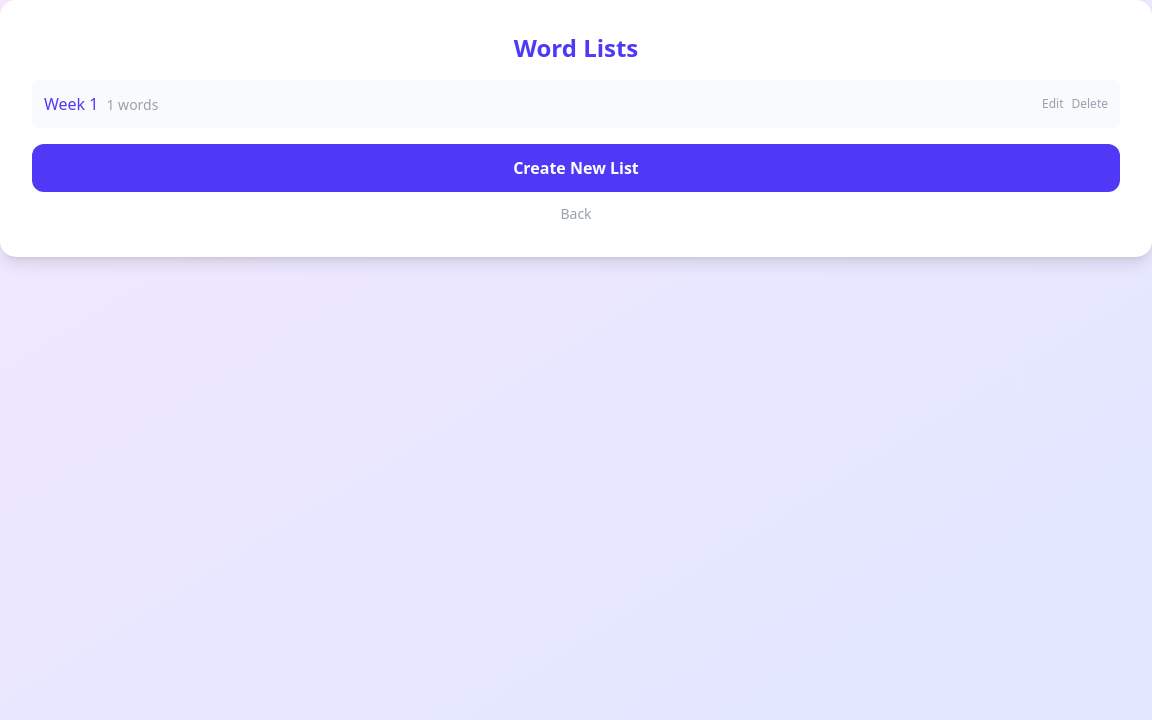
AdminPanel › deletes a word list
The image size is (1152, 720).
expect the text "Week 1" is shown: met, box [44,93,98,115]
Click the button "Delete" at coordinates (1090, 104), box [1072,96,1108,112]
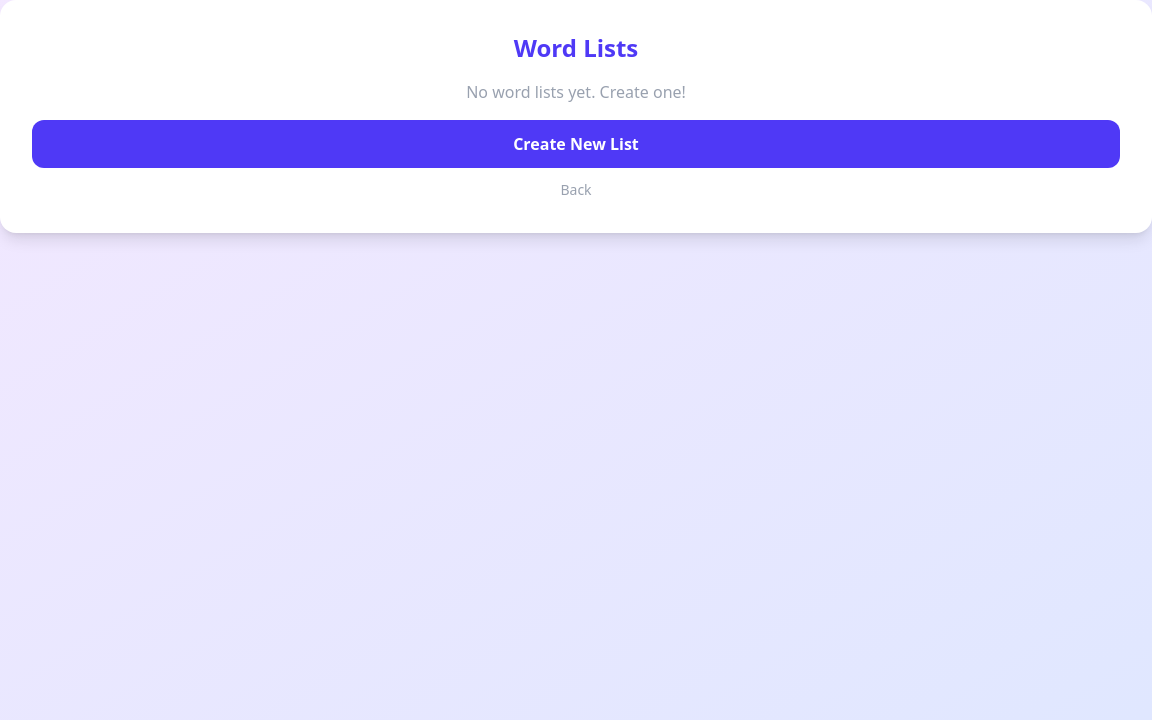
expect the button "Week 1" is gone: met
